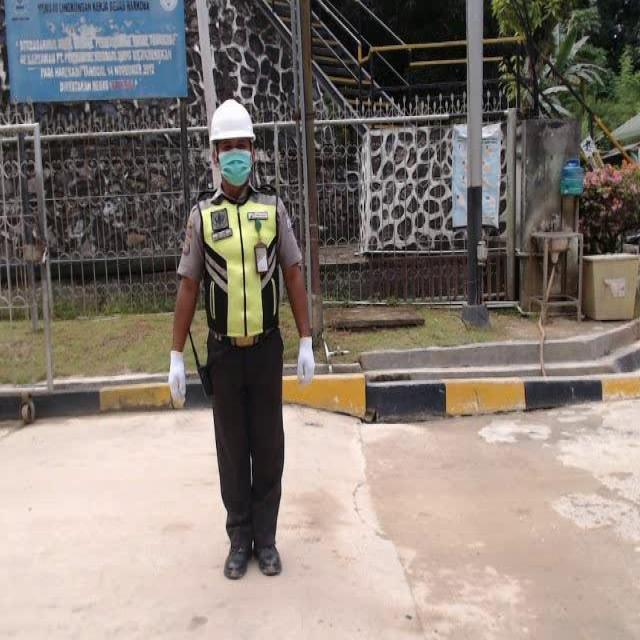boots: (224, 543, 252, 579), (254, 544, 282, 576)
gloves: (168, 349, 187, 407), (296, 336, 315, 386)
hard-hat: (208, 98, 255, 142)
person: (167, 97, 316, 579)
vest: (173, 185, 293, 351)
